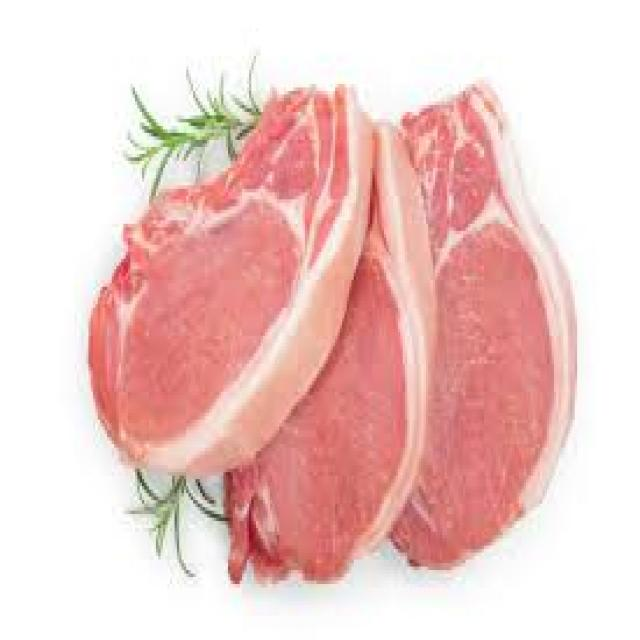Pork: (88, 87, 375, 477), (226, 126, 435, 584), (393, 84, 579, 568)
